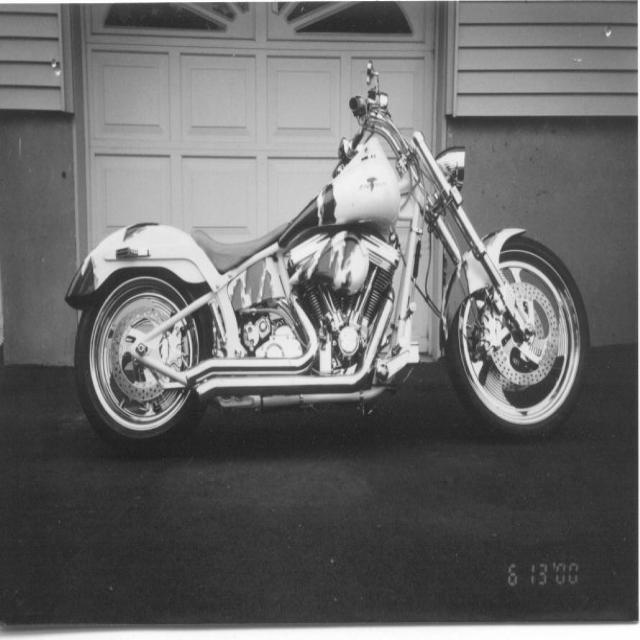Motorcycle: (66, 62, 590, 450)
